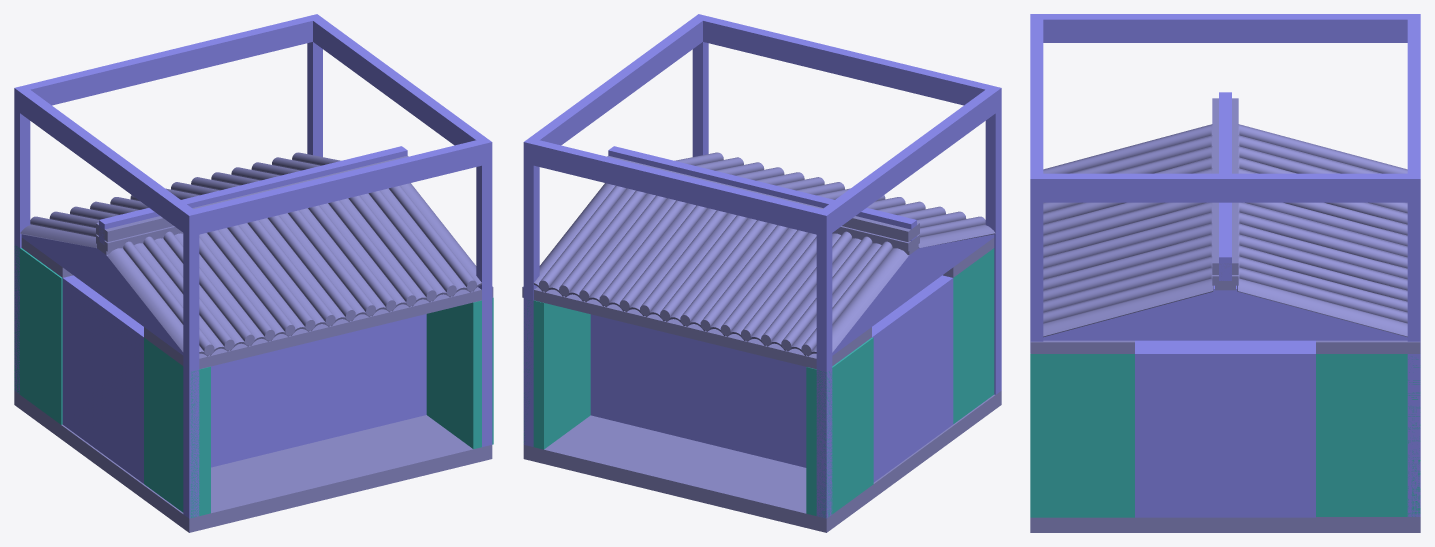
3 views of the same model, side by side, from view 1: azimuth 30°, elevation 25°; view 2: azimuth 150°, elevation 25°; view 3: azimuth 270°, elevation 25° (orthographic). The views are drawn at different scales.
Parts seen in each view (by area): view 1: 物件_9, 物件_77, 物件_6, 物件_5, 物件_4, 物件_7, 物件_10, 物件_3, 物件_1, 物件_80, 物件_12, 物件_14 (+37 smaller); view 2: 物件_9, 物件_77, 物件_10, 物件_4, 物件_5, 物件_8, 物件_6, 物件_3, 物件_2, 物件_80, 物件_11, 物件_14 (+37 smaller); view 3: 物件_9, 物件_7, 物件_8, 物件_80, 物件_3, 物件_13, 物件_77, 物件_79, 物件_5, 物件_4, 物件_15, 物件_44 (+33 smaller).
Boxes of the visible parts, left/top/right/bottom form: 物件_9: left=62, top=275, right=426, bottom=483; 物件_77: left=14, top=391, right=492, bottom=532; 物件_6: left=144, top=338, right=210, bottom=517; 物件_5: left=183, top=138, right=492, bottom=236; 物件_4: left=14, top=14, right=322, bottom=112; 物件_7: left=426, top=297, right=493, bottom=449; 物件_10: left=14, top=245, right=62, bottom=424; 物件_3: left=14, top=87, right=199, bottom=236; 物件_1: left=183, top=210, right=199, bottom=518; 物件_80: left=308, top=14, right=492, bottom=165; 物件_12: left=144, top=286, right=493, bottom=369; 物件_14: left=21, top=234, right=183, bottom=355; 物件_9: left=590, top=275, right=953, bottom=482; 物件_77: left=523, top=391, right=1001, bottom=532; 物件_10: left=806, top=337, right=873, bottom=517; 物件_4: left=523, top=138, right=831, bottom=236; 物件_5: left=695, top=14, right=999, bottom=105; 物件_8: left=523, top=300, right=590, bottom=449; 物件_6: left=953, top=248, right=994, bottom=423; 物件_3: left=816, top=88, right=1001, bottom=236; 物件_2: left=816, top=209, right=832, bottom=518; 物件_80: left=524, top=15, right=705, bottom=165; 物件_11: left=522, top=286, right=871, bottom=369; 物件_14: left=832, top=234, right=994, bottom=355; 物件_9: left=1135, top=285, right=1315, bottom=517; 物件_7: left=1030, top=353, right=1134, bottom=517; 物件_8: left=1316, top=354, right=1420, bottom=516; 物件_80: left=1030, top=173, right=1420, bottom=202; 物件_3: left=1030, top=14, right=1419, bottom=42; 物件_13: left=1043, top=289, right=1407, bottom=340; 物件_77: left=1030, top=517, right=1420, bottom=532; 物件_79: left=1407, top=173, right=1420, bottom=516; 物件_5: left=1030, top=14, right=1043, bottom=202; 物件_4: left=1407, top=14, right=1420, bottom=202; 物件_15: left=1237, top=278, right=1407, bottom=337; 物件_44: left=1043, top=278, right=1213, bottom=337.
Size of the model in its own units: 48.24 by 48 by 48.
